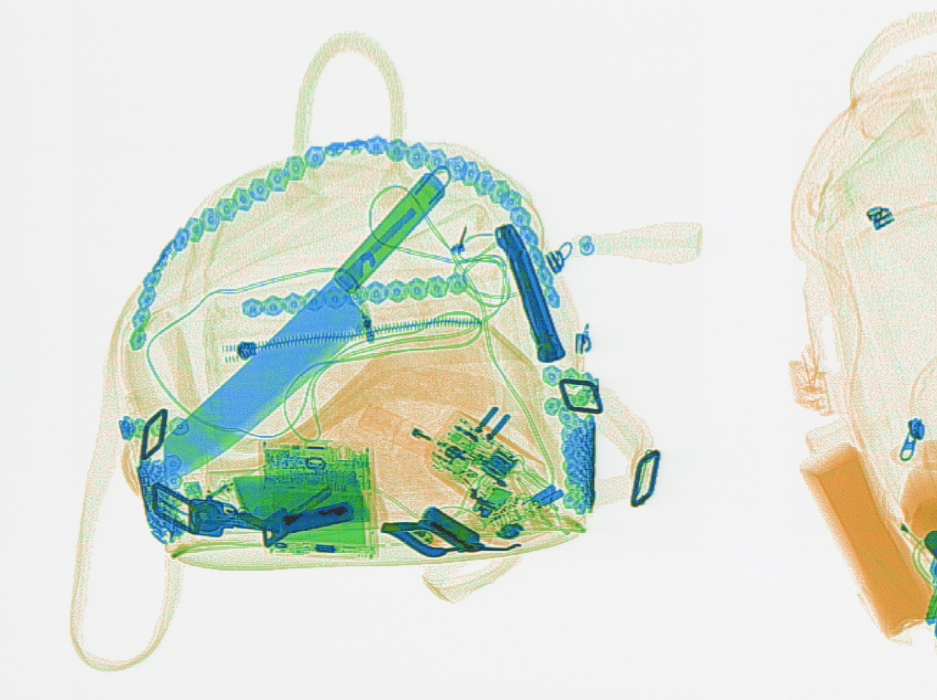knife: (160, 162, 454, 485), (493, 221, 566, 363)
lighter: (354, 403, 470, 476)
powerbank: (184, 462, 389, 538)
